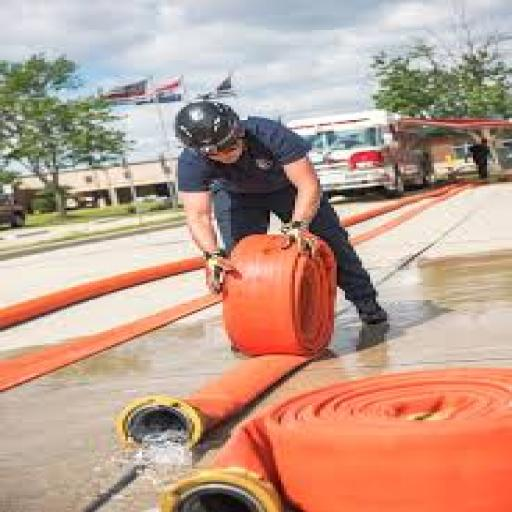fire_hose: (150, 371, 509, 512), (180, 228, 403, 372)
